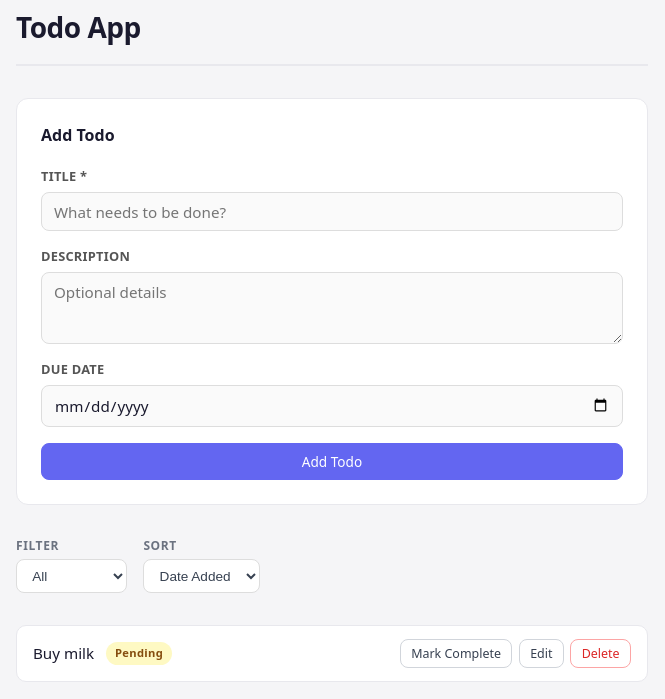
Test: App › switches to detail view when a todo title is clicked
This screenshot has width=665, height=699.
Step 1. Click the button "Buy milk" → (64, 654), box [33, 642, 94, 665]
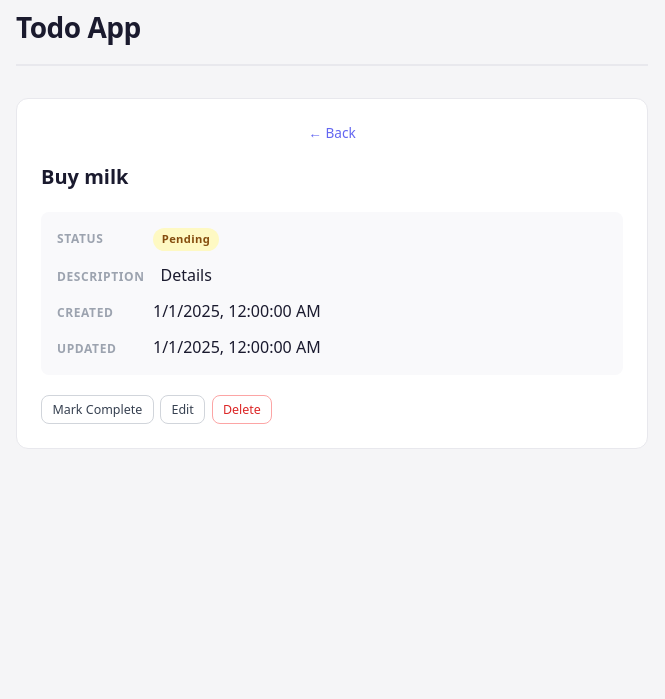
Expected: the text "Details" is shown, [160, 263, 212, 287]
